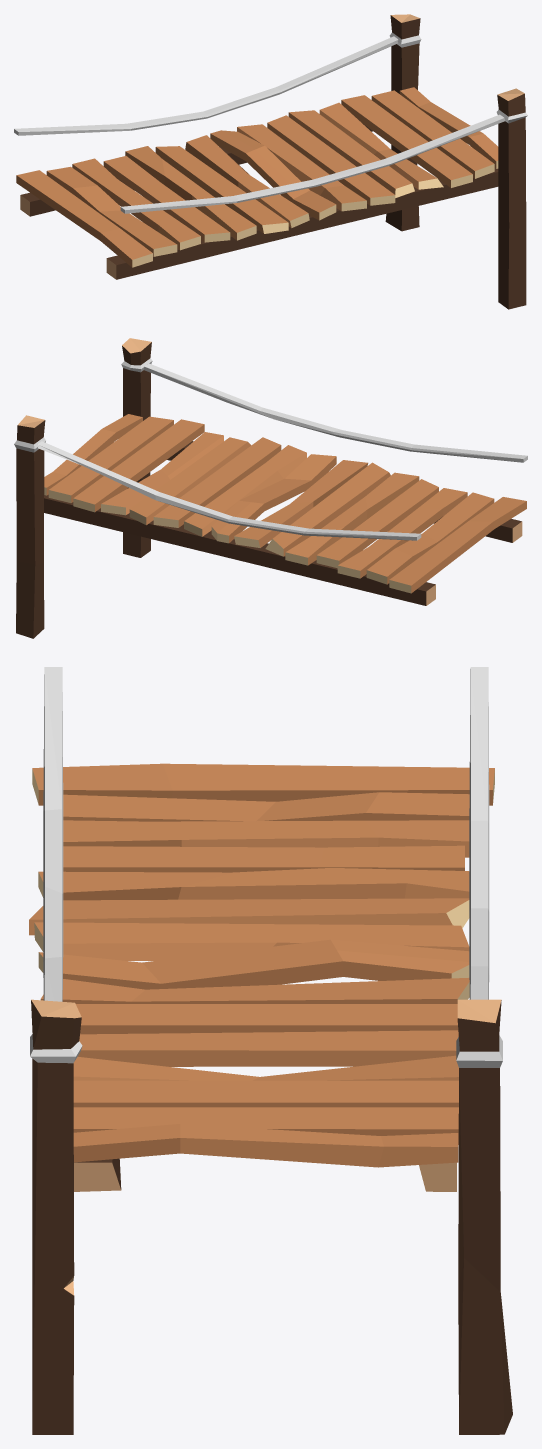
The model's file is pier2.glb.
3 views of the same model, one above another, from view 1: azimuth 30°, elevation 25°; view 2: azimuth 150°, elevation 25°; view 3: azimuth 270°, elevation 25° (orthographic). The views are drawn at different scales.
Visible parts, largest first — view 1: pier_1; view 2: pier_1; view 3: pier_1.
Boxes of the visible parts, <box> form: pier_1: <box>14,14,527,309</box>; pier_1: <box>14,338,527,638</box>; pier_1: <box>29,667,512,1434</box>.
Bounding box in the file's own units: 13.94 × 6.98 × 7.29.
1 material, 1 textured.
